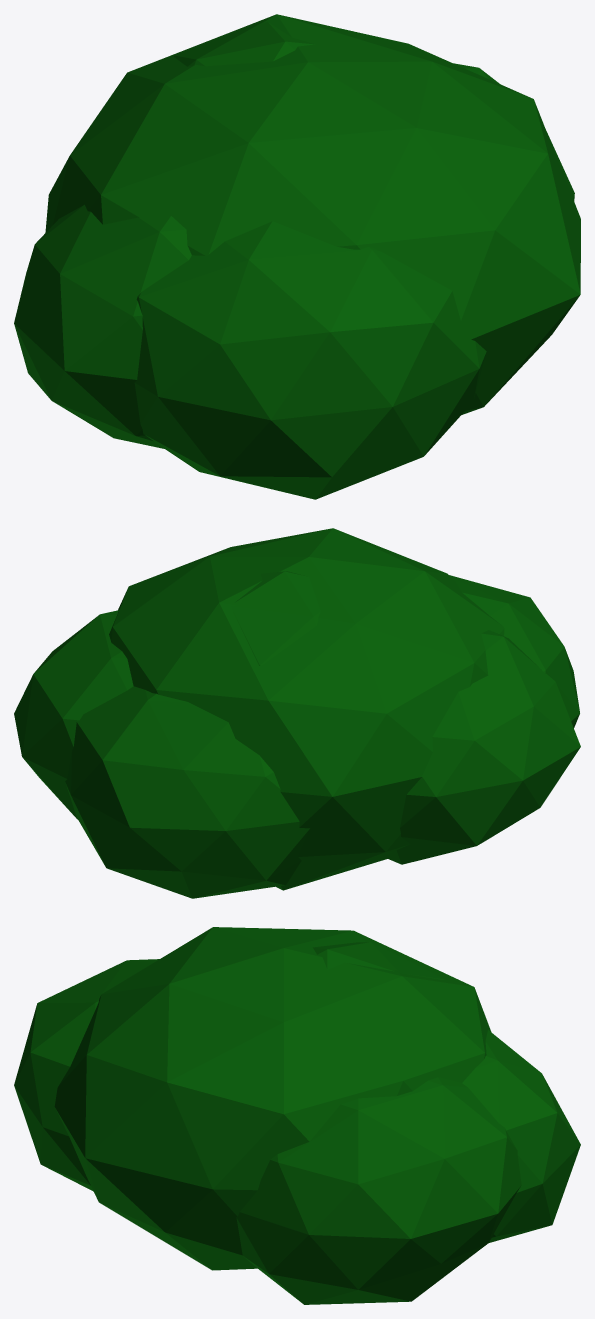
The model's file is arbusto.obj.
The picture shows the model from 3 angles, top to bottom: view 1: azimuth 30°, elevation 25°; view 2: azimuth 150°, elevation 25°; view 3: azimuth 270°, elevation 25°; orthographic projection. The views are drawn at different scales.
Visible parts, largest first — view 1: Arbusto_01; view 2: Arbusto_01; view 3: Arbusto_01.
Boxes of the visible parts, left/top/right/bottom form: Arbusto_01: left=14, top=14, right=580, bottom=499; Arbusto_01: left=14, top=528, right=580, bottom=898; Arbusto_01: left=14, top=927, right=580, bottom=1304.
Size of the model in its own units: 1.74 by 1.05 by 1.78.
